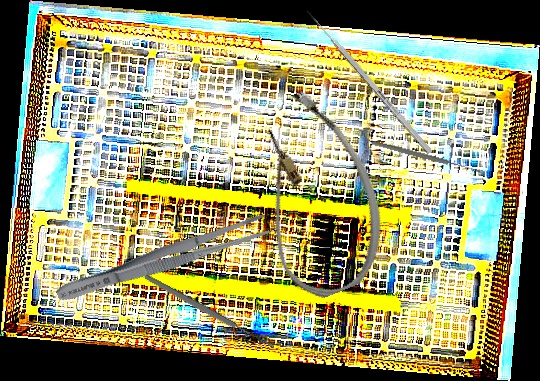Cannula: (223, 79, 406, 309)
Dressing Forceps: (52, 210, 272, 309)
Pusher: (304, 8, 434, 155)
Surgical Spoon: (143, 272, 276, 352), (371, 139, 481, 175)
